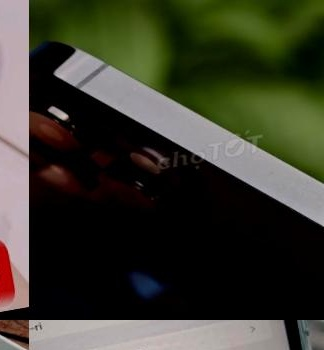screen_defect: (40, 326, 236, 350)
